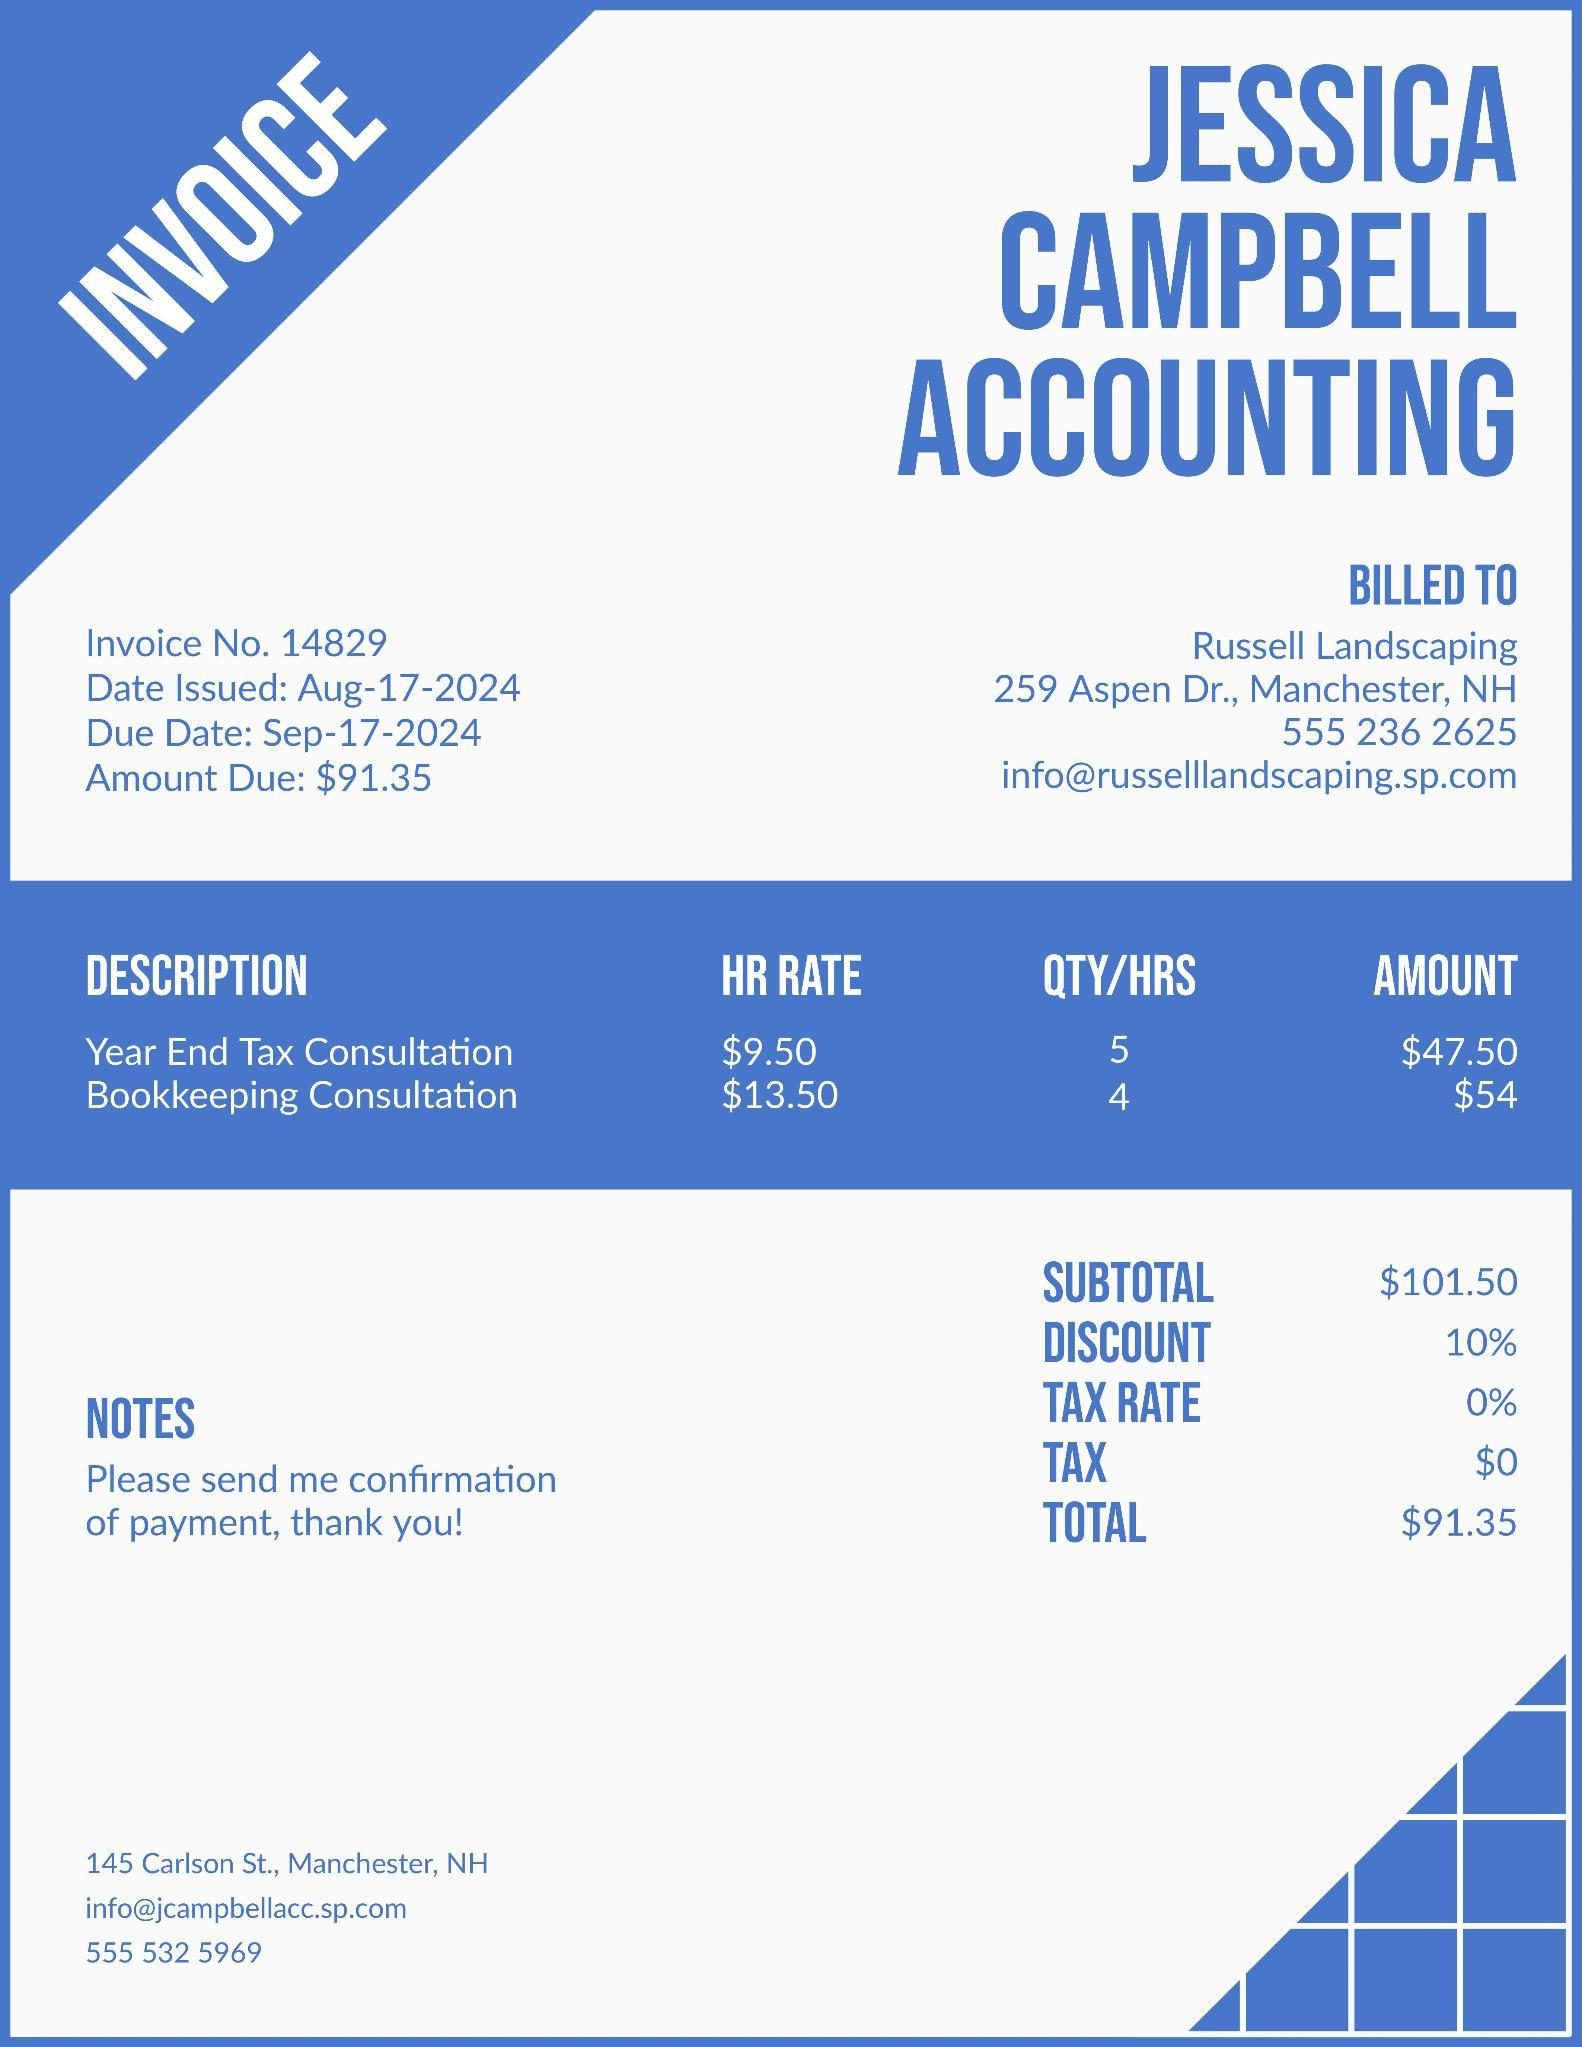ROI: (50, 914, 1560, 1155), (869, 28, 1545, 497), (1010, 1211, 1545, 1588), (980, 532, 1545, 804), (17, 28, 429, 390), (70, 1343, 587, 1563), (60, 606, 530, 809), (58, 1819, 518, 1992)
